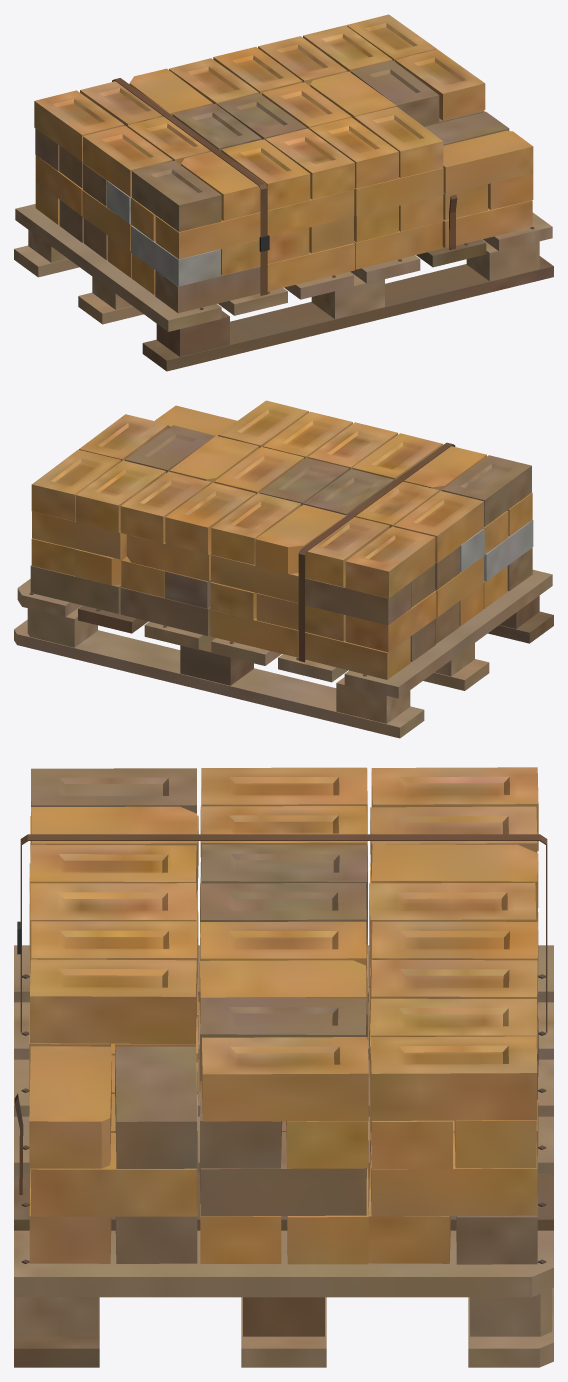
The model's file is CS08_brick_pallet.glb.
3 renders of one model, top to bottom at view 1: azimuth 30°, elevation 25°; view 2: azimuth 150°, elevation 25°; view 3: azimuth 270°, elevation 25°, orthographic. The views are drawn at different scales.
Parts seen in each view (by area): view 1: Brick pallet; view 2: Brick pallet; view 3: Brick pallet.
Boxes of the visible parts, bbox=[...] form: Brick pallet: bbox=[14, 14, 553, 371]; Brick pallet: bbox=[14, 400, 553, 738]; Brick pallet: bbox=[14, 767, 553, 1367].
Size of the model in its own units: 1.2 by 0.473 by 0.82.
Materials: 7 (7 with a texture image).
